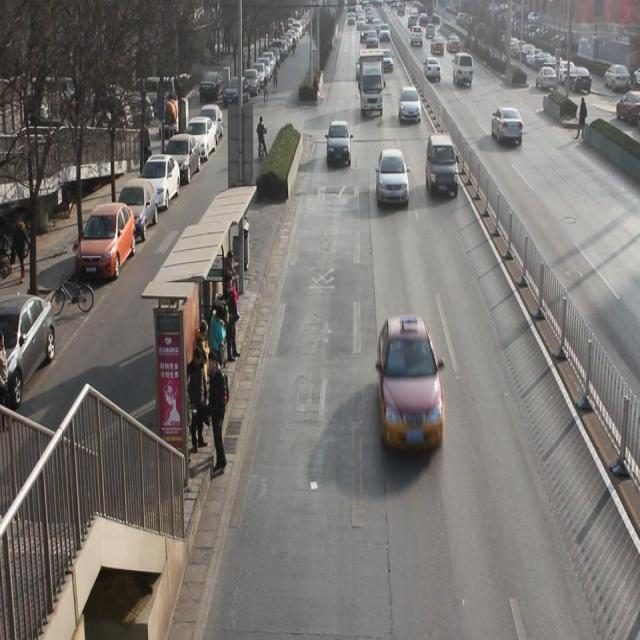bus: (361, 52, 383, 116)
car: (372, 319, 448, 454), (426, 135, 460, 199), (377, 149, 409, 207), (490, 104, 524, 150), (326, 119, 352, 164), (396, 86, 424, 125), (380, 45, 395, 75), (424, 57, 441, 82)
truck: (453, 52, 474, 87)
